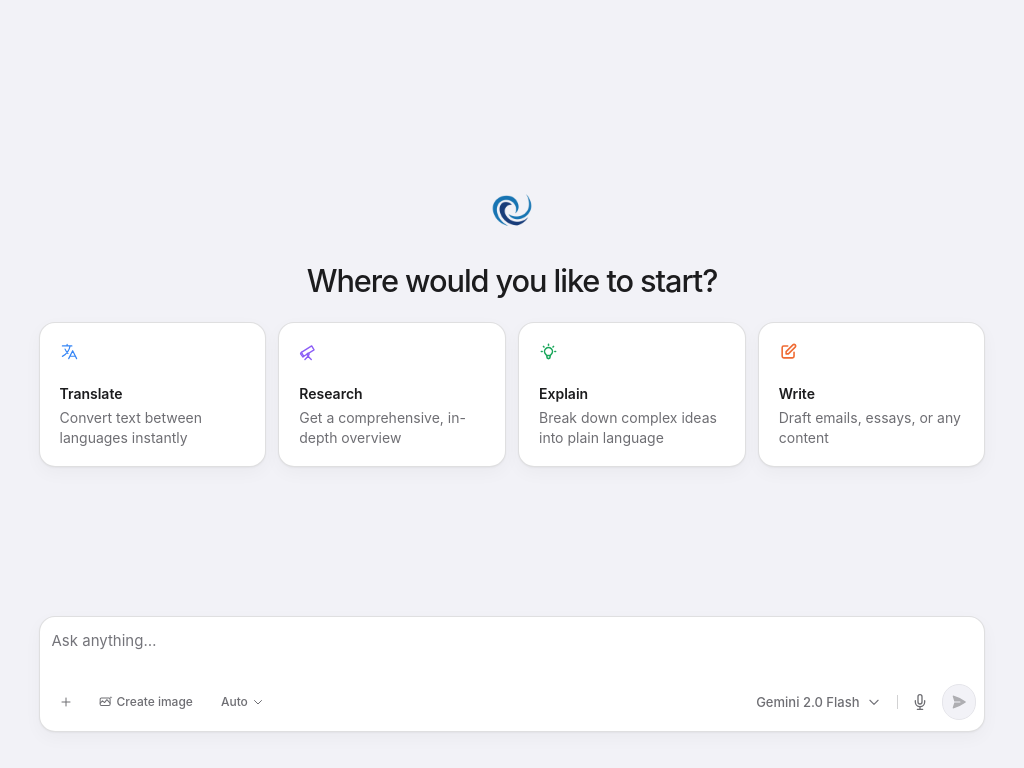
Test: ChatPage › falls back to non-streaming chat when the preload stream API is unavailable
Type "Hello" into the text box with placeholder "Ask anything…" at [512, 651], box [52, 627, 972, 675]
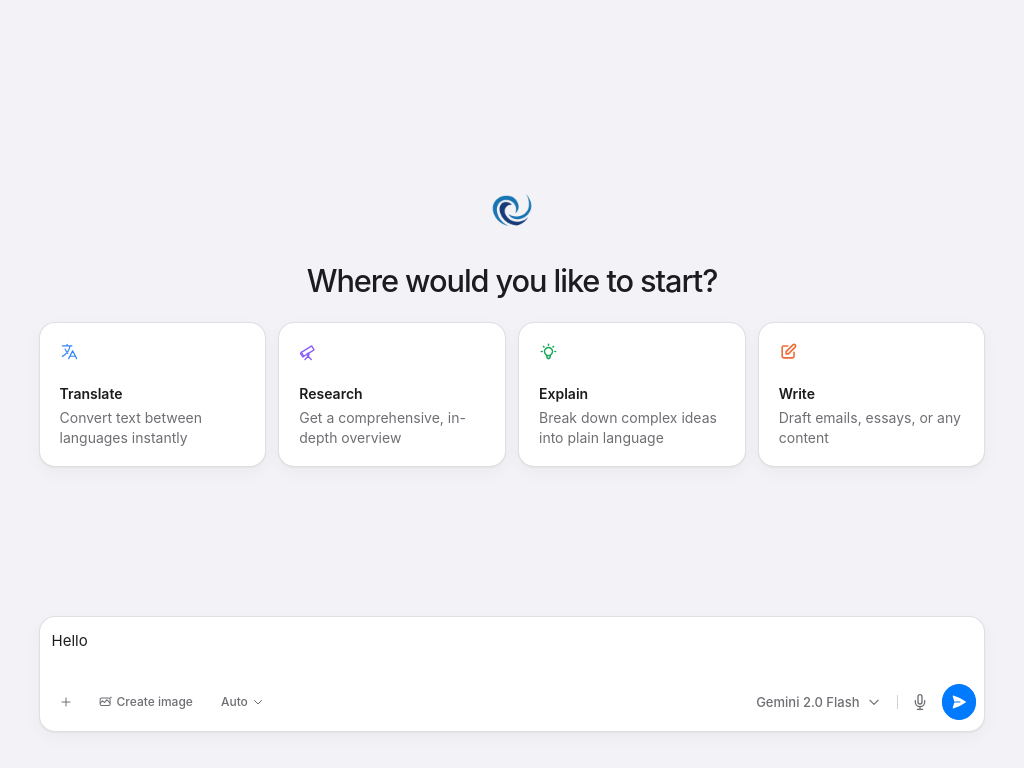
Press Enter in the text box with placeholder "Ask anything…", box [52, 627, 972, 675]
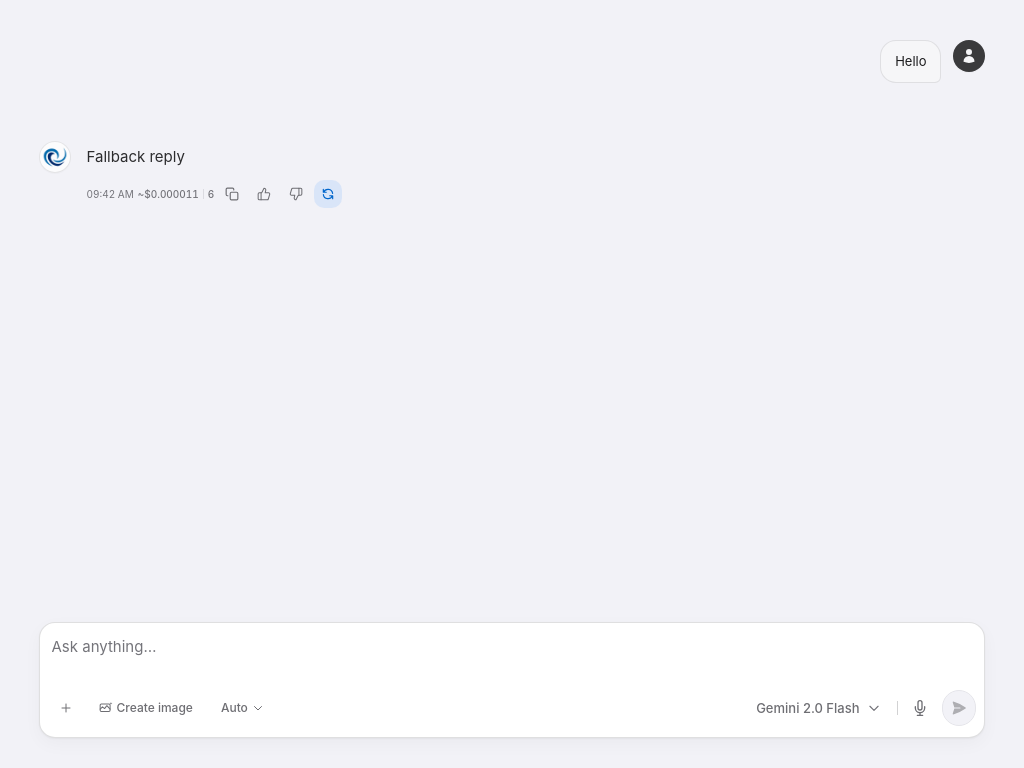
Check: the text "Fallback reply" is shown, box [86, 145, 185, 170]
